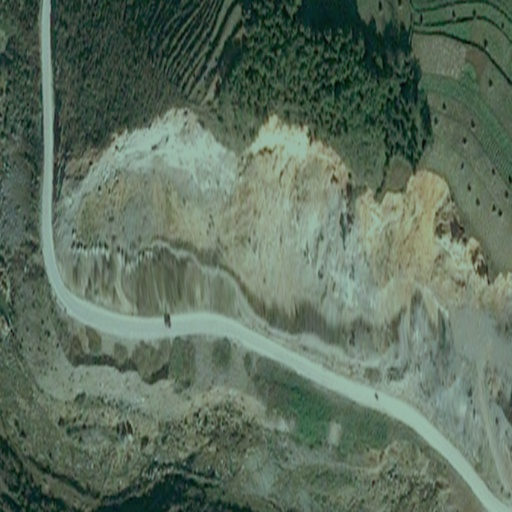landslide: (62, 109, 461, 285)
